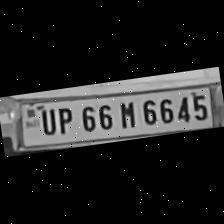4: (172, 93, 192, 123)
5: (188, 90, 210, 122)
6: (136, 96, 159, 128), (74, 102, 97, 132), (94, 101, 116, 131), (155, 94, 175, 124)
M: (114, 98, 140, 130)
P: (52, 104, 76, 136)
U: (36, 104, 58, 136)
